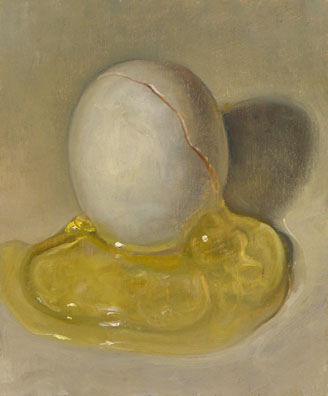egg: (67, 58, 233, 255)
